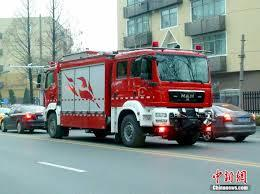Fire-engine: (35, 41, 214, 150)
